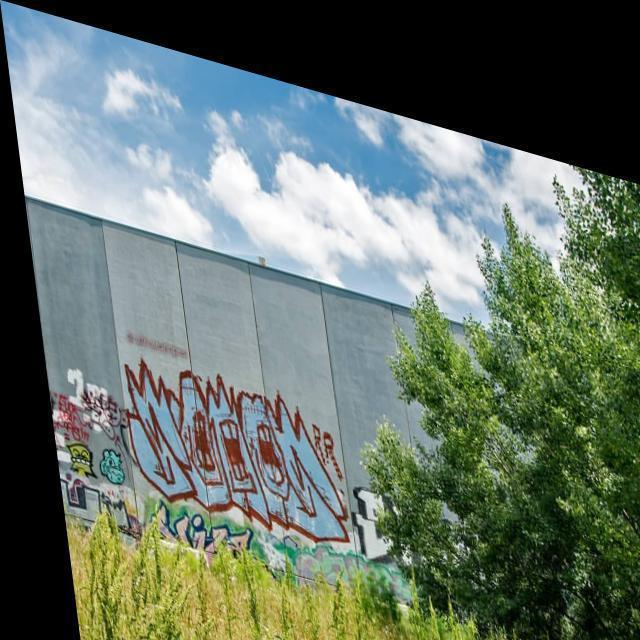nonspitting: (122, 354, 346, 540), (148, 499, 253, 556), (352, 486, 412, 566), (65, 480, 132, 531), (66, 366, 110, 430), (83, 390, 128, 446), (48, 392, 92, 442)
spitting: (68, 443, 98, 478), (100, 448, 125, 484)
